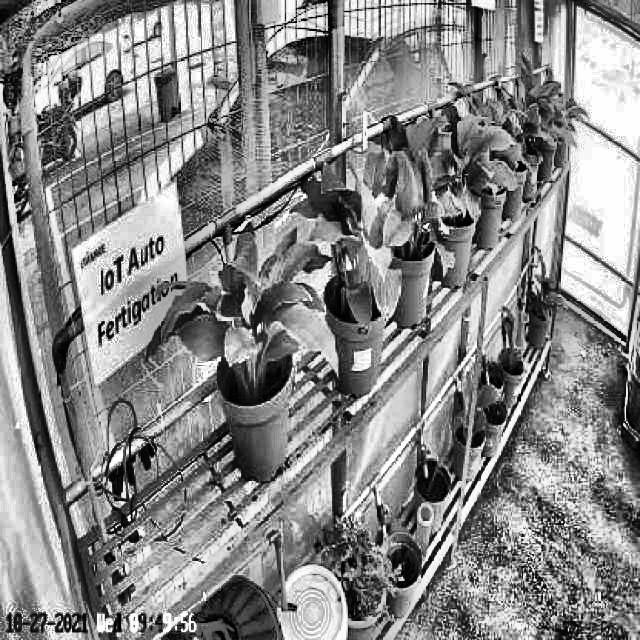plants: (146, 215, 340, 392), (290, 171, 404, 317), (357, 112, 455, 277), (410, 111, 518, 231)
